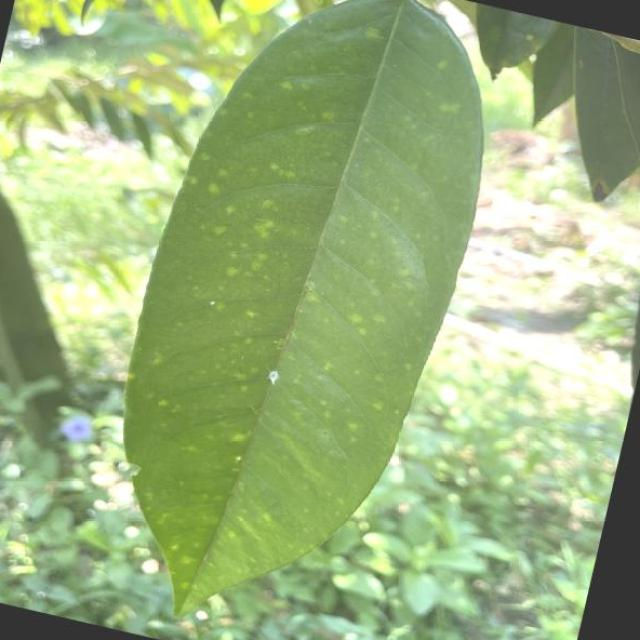Leaf Spot: (64, 0, 524, 640)
